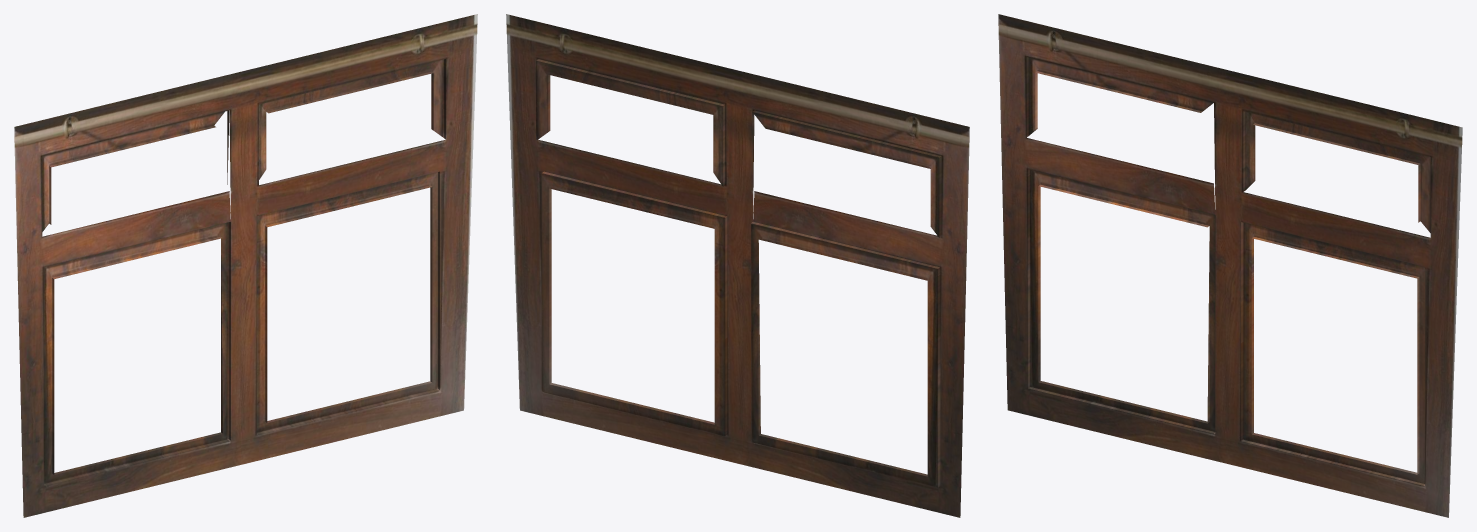
3 views of the same model, side by side, from view 1: azimuth 30°, elevation 25°; view 2: azimuth 150°, elevation 25°; view 3: azimuth 330°, elevation 25° (orthographic).
Bounding box in the file's own units: 1.48 × 1.2 × 0.0117.
